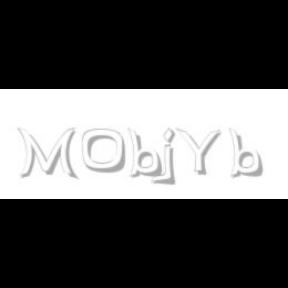M: (18, 128, 76, 180)
O: (82, 128, 126, 174)
Y: (175, 128, 221, 176)
b: (127, 128, 165, 178), (228, 128, 266, 178)
j: (160, 128, 189, 186)
